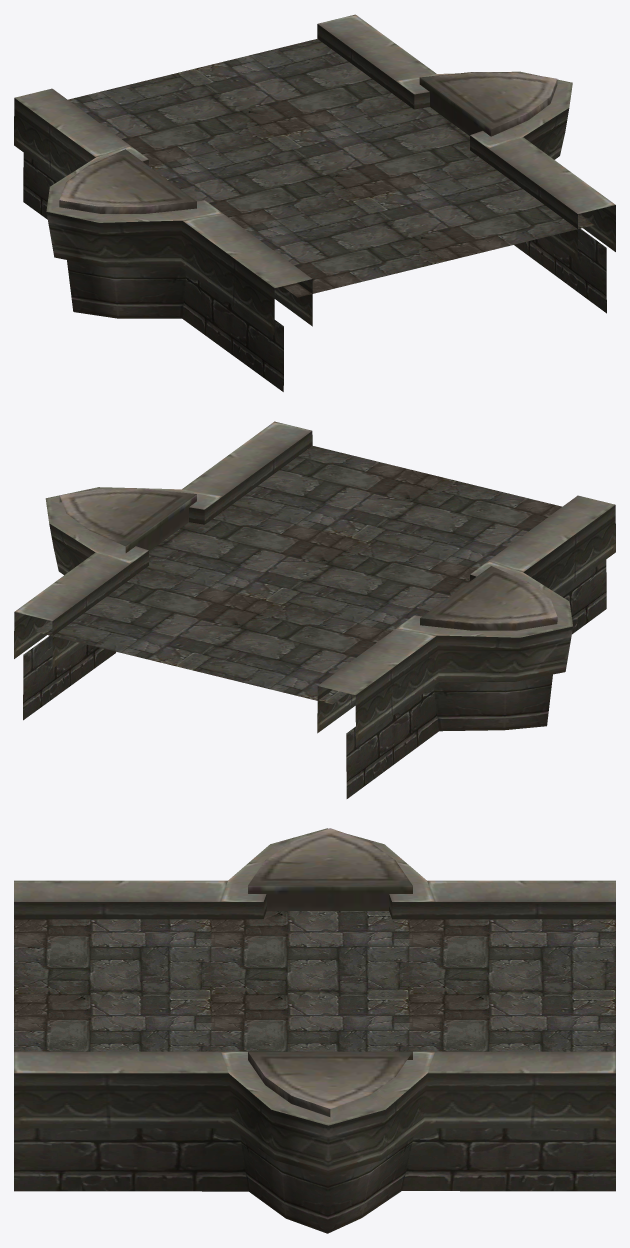
File: h5_qiao.FBX
3 views of the same model, one above another, from view 1: azimuth 30°, elevation 25°; view 2: azimuth 150°, elevation 25°; view 3: azimuth 270°, elevation 25° (orthographic). The views are drawn at different scales.
Visible parts, largest first — view 1: h5_qiao; view 2: h5_qiao; view 3: h5_qiao.
Boxes of the visible parts, x1,y1,x2,y2 form: h5_qiao: (14,14,615,391); h5_qiao: (14,421,615,798); h5_qiao: (14,828,615,1233).
Bounding box in the file's own units: 14.55 × 2.99 × 12.45.
Materials: 1 (1 with a texture image).
